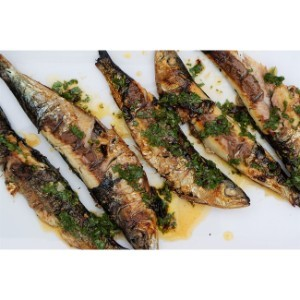sardine_brain food: (15, 73, 277, 229)
